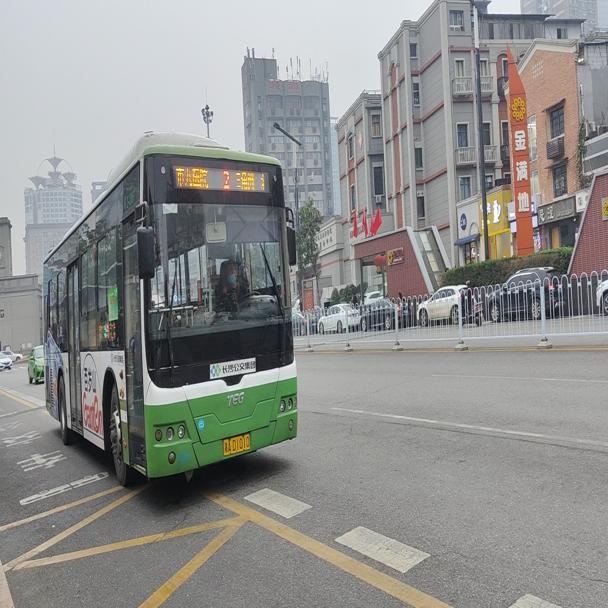bus: (43, 126, 302, 486)
screen: (213, 168, 238, 189)
